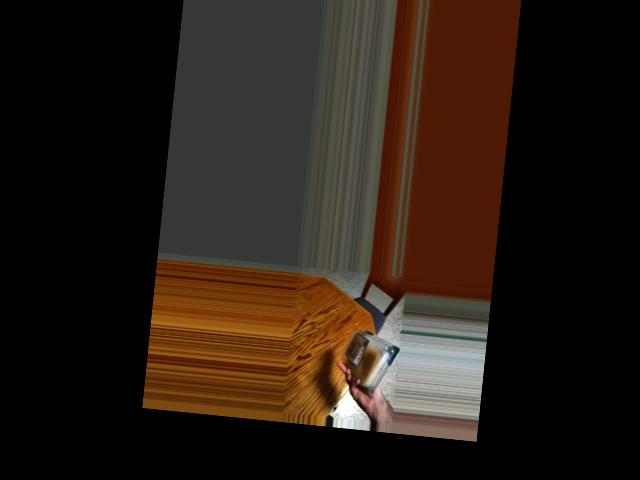cheese: (345, 328, 392, 390)
